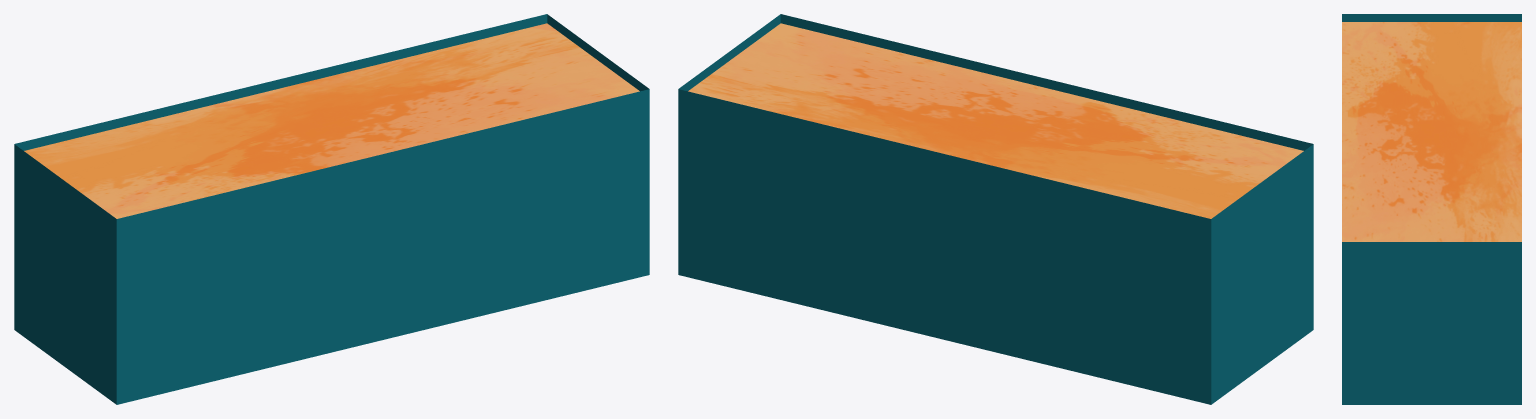
File: Platform-tile.fbx
3 views of the same model, side by side, from view 1: azimuth 30°, elevation 25°; view 2: azimuth 150°, elevation 25°; view 3: azimuth 270°, elevation 25° (orthographic). The views are drawn at different scales.
Parts seen in each view (by area): view 1: Plane.002, Plane.003; view 2: Plane.002, Plane.003; view 3: Plane.003, Plane.002.
Boxes of the visible parts, x1=… form: Plane.002: x1=14, y1=14, x2=649, y2=404; Plane.003: x1=24, y1=23, x2=639, y2=218; Plane.002: x1=678, y1=14, x2=1313, y2=404; Plane.003: x1=688, y1=23, x2=1303, y2=218; Plane.003: x1=1342, y1=22, x2=1521, y2=241; Plane.002: x1=1342, y1=14, x2=1521, y2=404.
Size of the model in its own units: 3000 by 1000 by 1000.
2 materials, 1 textured.
